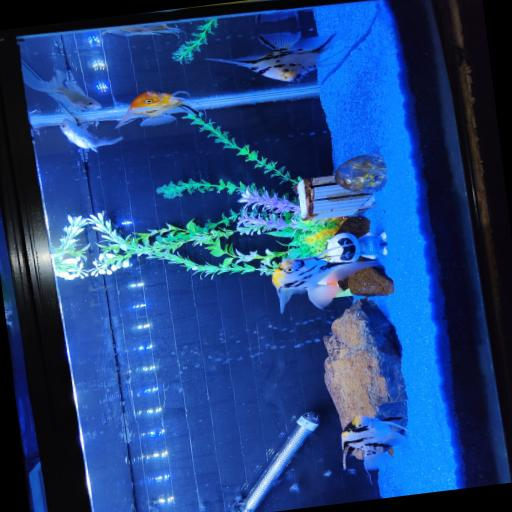Fish: (208, 32, 346, 82), (273, 250, 381, 312), (22, 62, 102, 110), (342, 415, 407, 470), (116, 91, 198, 128), (60, 119, 123, 152), (103, 24, 184, 36), (256, 11, 297, 25)
